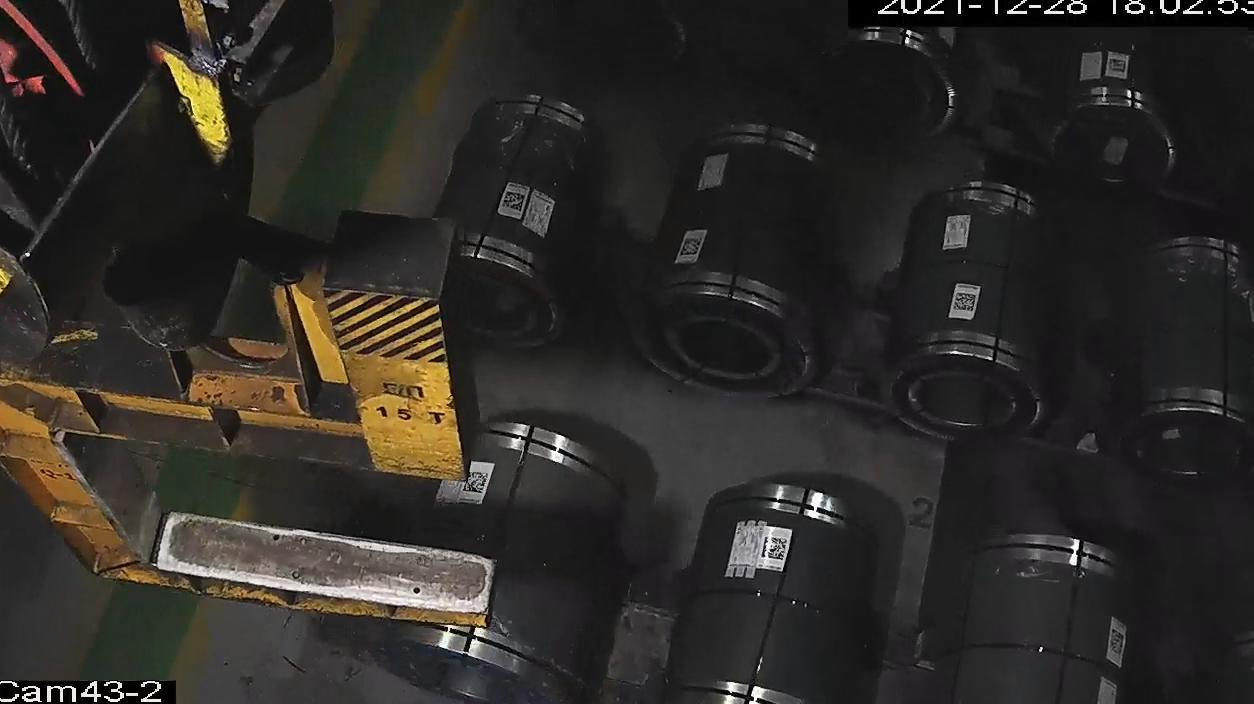data matrix: (761, 535, 790, 563), (463, 471, 490, 495), (502, 190, 527, 214), (953, 292, 978, 314), (679, 237, 704, 258), (1110, 628, 1126, 657), (1107, 58, 1129, 76)
